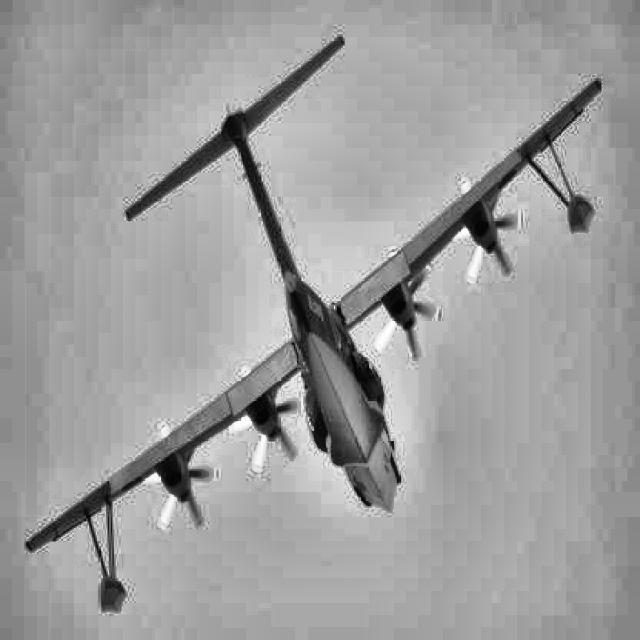US2: (24, 35, 602, 613)
